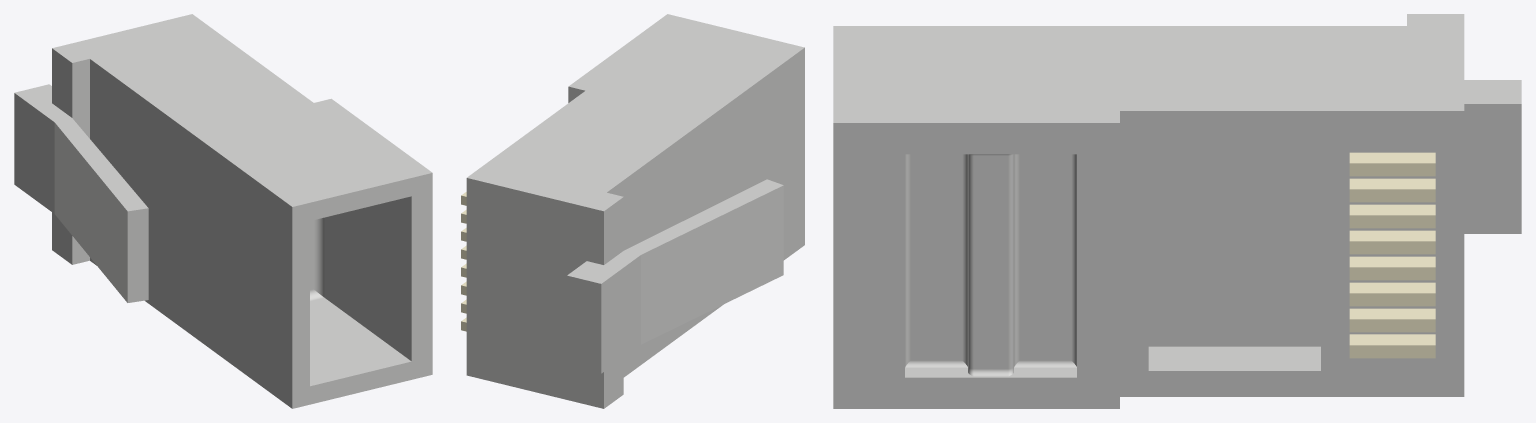
File: asset.glb
The picture shows the model from 3 angles, left to right: view 1: azimuth 30°, elevation 25°; view 2: azimuth 150°, elevation 25°; view 3: azimuth 270°, elevation 25°; orthographic projection. The views are drawn at different scales.
Parts seen in each view (by area): view 1: Body1; view 2: Body1; view 3: Body1, Body2, Body3, Body4, Body5, Body6, Body7, Body8, Body9.
Boxes of the visible parts, bbox=[...] form: Body1: bbox=[14, 14, 432, 408]; Body1: bbox=[466, 14, 804, 408]; Body1: bbox=[833, 14, 1521, 408]; Body2: bbox=[1349, 334, 1435, 358]; Body3: bbox=[1349, 308, 1435, 332]; Body4: bbox=[1349, 256, 1435, 280]; Body5: bbox=[1349, 282, 1435, 306]; Body6: bbox=[1349, 204, 1435, 228]; Body7: bbox=[1349, 230, 1435, 254]; Body8: bbox=[1349, 178, 1435, 202]; Body9: bbox=[1349, 152, 1435, 176].
Bounding box in the file's own units: 1.21 × 1.1 × 2.4.
